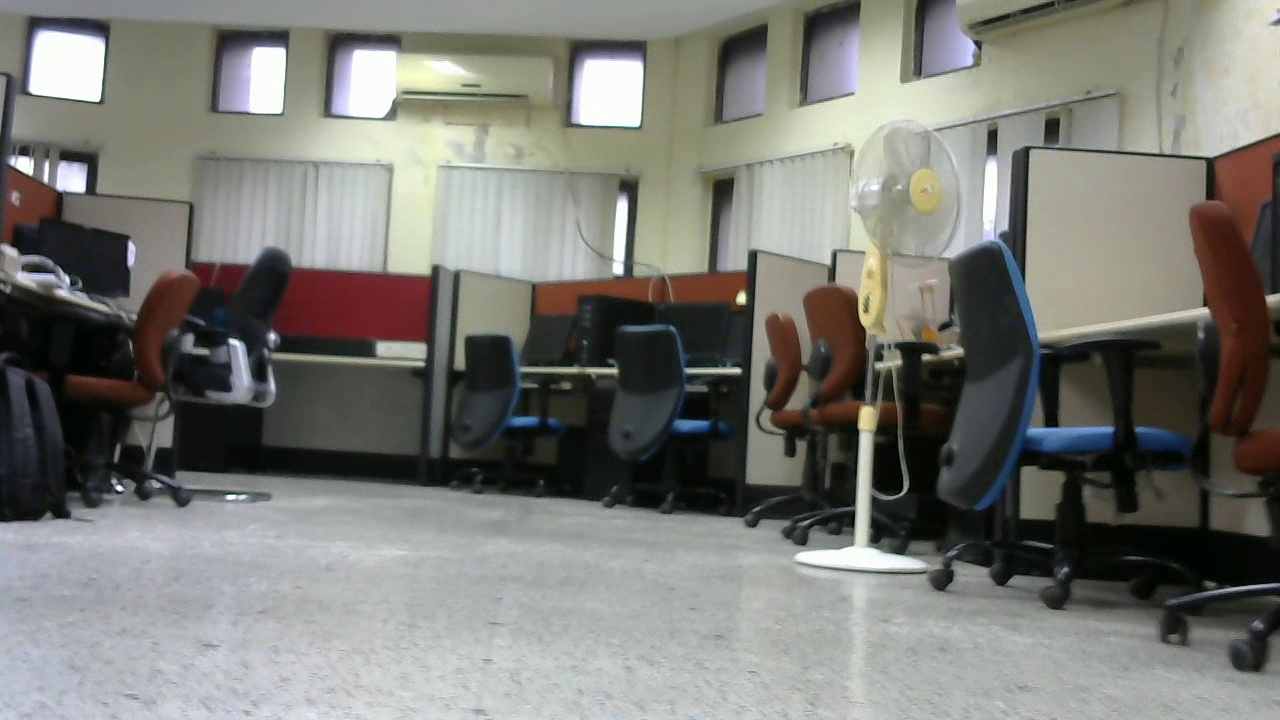chair: (938, 241, 1186, 600), (735, 282, 948, 550), (132, 250, 297, 507), (36, 268, 204, 479), (589, 321, 734, 515), (439, 330, 584, 497)
